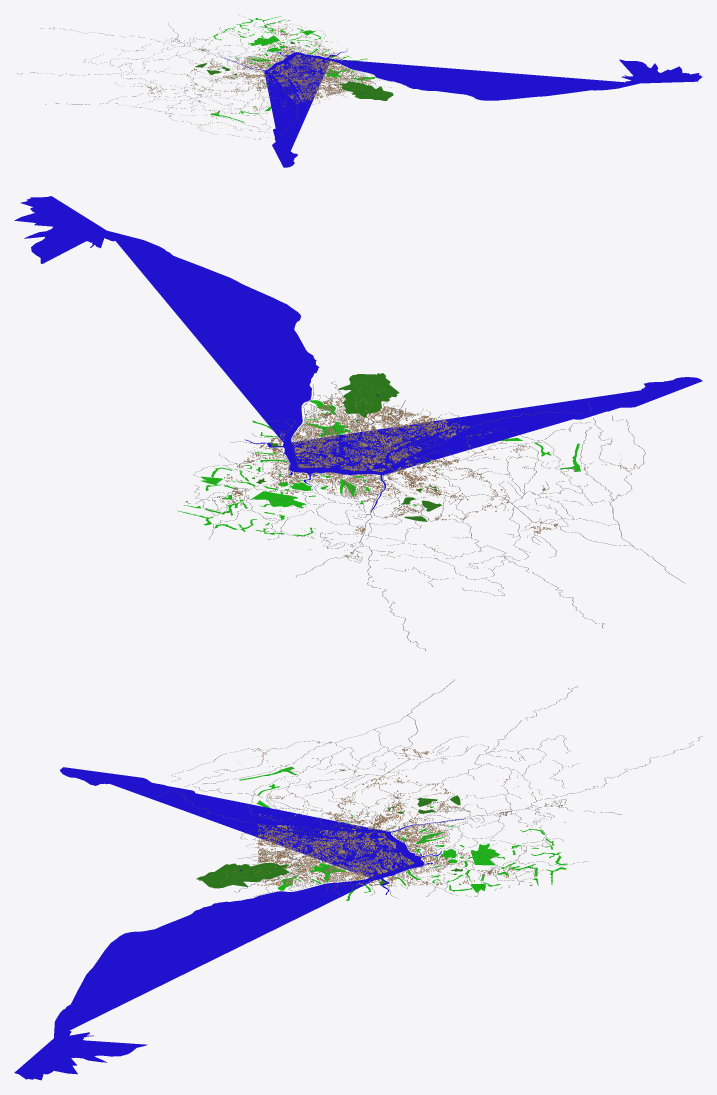
3 renders of one model, top to bottom at view 1: azimuth 30°, elevation 25°; view 2: azimuth 150°, elevation 25°; view 3: azimuth 270°, elevation 25°, orthographic. The views are drawn at different scales.
Parts seen in each view (by area): view 1: map.osm_water, map.osm_buildings, map.osm_vegetation, map.osm_roads_residential, map.osm_forest, map.osm_roads_tertiary; view 2: map.osm_water, map.osm_buildings, map.osm_roads_residential, map.osm_vegetation, map.osm_forest, map.osm_roads_tertiary, map.osm_roads_secondary; view 3: map.osm_water, map.osm_buildings, map.osm_roads_residential, map.osm_vegetation, map.osm_forest, map.osm_roads_tertiary, map.osm_roads_secondary.
Boxes of the visible parts, <box> form: map.osm_water: <box>222,50,702,167</box>; map.osm_buildings: <box>122,20,375,127</box>; map.osm_vegetation: <box>211,16,375,122</box>; map.osm_roads_residential: <box>83,22,379,114</box>; map.osm_forest: <box>195,41,393,100</box>; map.osm_roads_tertiary: <box>121,15,390,139</box>; map.osm_water: <box>14,196,702,512</box>; map.osm_buildings: <box>185,393,634,567</box>; map.osm_roads_residential: <box>194,394,592,595</box>; map.osm_vegetation: <box>177,400,580,536</box>; map.osm_forest: <box>252,373,441,521</box>; map.osm_roads_tertiary: <box>193,384,645,560</box>; map.osm_roads_secondary: <box>331,381,632,650</box>; map.osm_water: <box>14,767,465,1080</box>; map.osm_buildings: <box>257,749,562,886</box>; map.osm_roads_residential: <box>242,735,578,897</box>; map.osm_vegetation: <box>239,766,567,900</box>; map.osm_forest: <box>196,795,462,888</box>; map.osm_roads_tertiary: <box>157,729,589,897</box>; map.osm_roads_secondary: <box>193,686,702,892</box>.
Size of the model in its own units: 1821226 by 3453 by 1322220.
